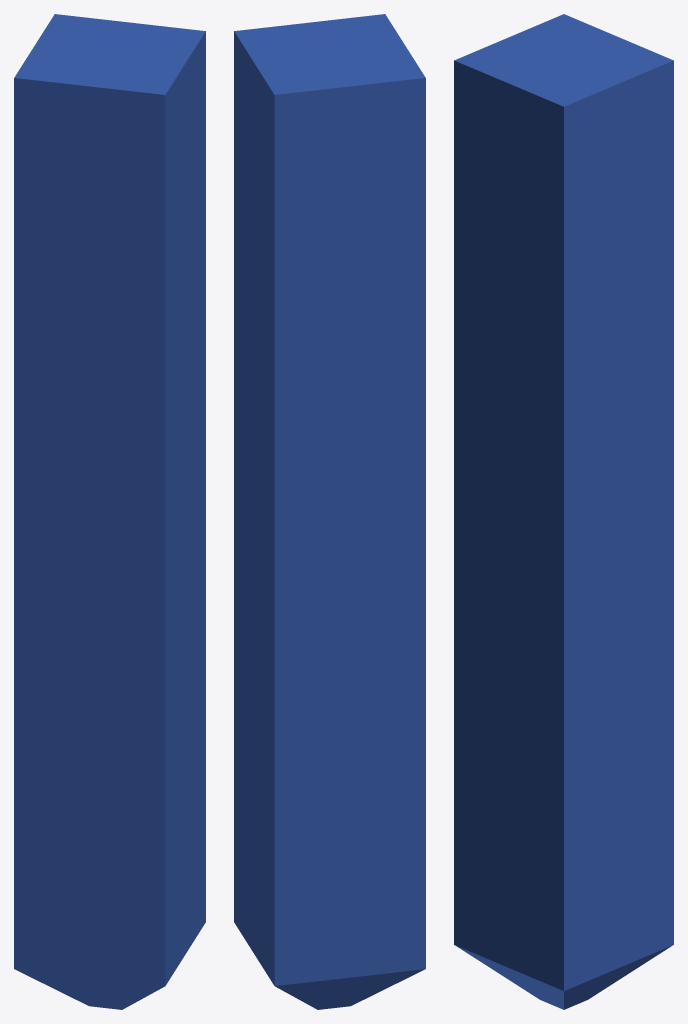
The model's file is Exc_Motor_5203_2402_0188_3.obj.
The picture shows the model from 3 angles, left to right: view 1: azimuth 30°, elevation 25°; view 2: azimuth 150°, elevation 25°; view 3: azimuth 270°, elevation 25°; orthographic projection.
Visible parts, largest first — view 1: mesh28556; view 2: mesh28556; view 3: mesh28556.
Part boxes in pixels (x1,y1,x2,y2): mesh28556: (14,14,205,1009); mesh28556: (234,14,425,1009); mesh28556: (454,14,673,1009).
Bounding box in the file's own units: 0.000905 × 0.00427 × 0.000905.
